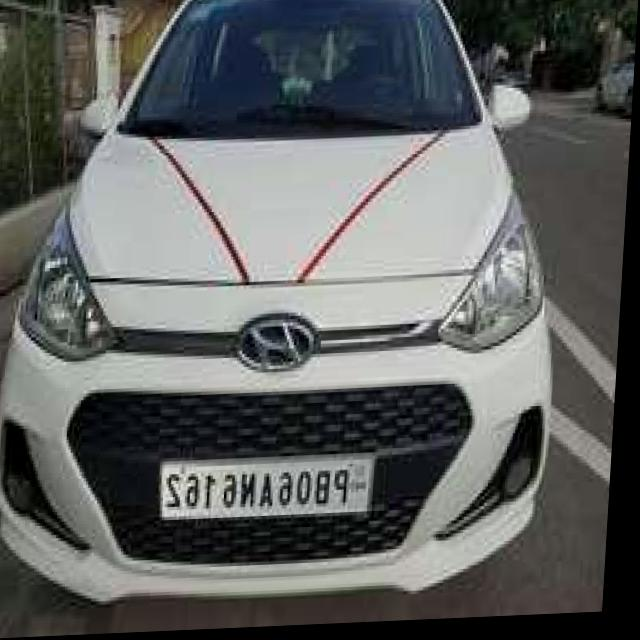0: (302, 475, 317, 508)
1: (209, 477, 222, 511)
2: (171, 477, 187, 510)
6: (227, 478, 244, 511), (285, 474, 299, 510), (191, 478, 206, 511)
a: (266, 477, 281, 510)
b: (320, 472, 337, 509)
n: (247, 477, 263, 511)
p: (339, 472, 357, 511)
